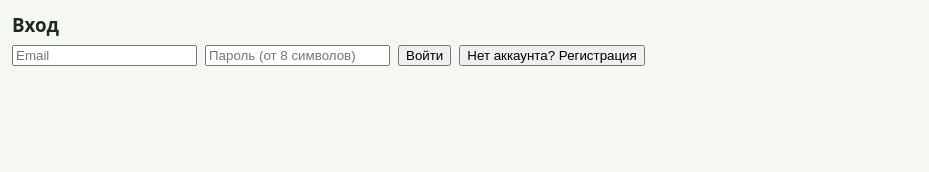
Test: LoginForm › переключение на регистрацию показывает поле «Имя» и меняет кнопку
Expected: the field labelled "Имя" is not shown
Click the button "Нет аккаунта? Регистрация": (552, 56) [459,45,645,66]
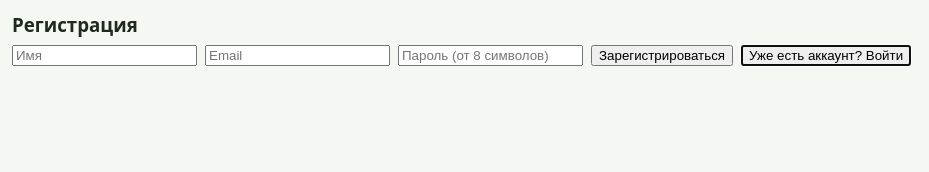
Expected: the field labelled "Имя" is shown, [12,45,197,66]
Expected: the button "Зарегистрироваться" is shown, [591,45,733,66]
